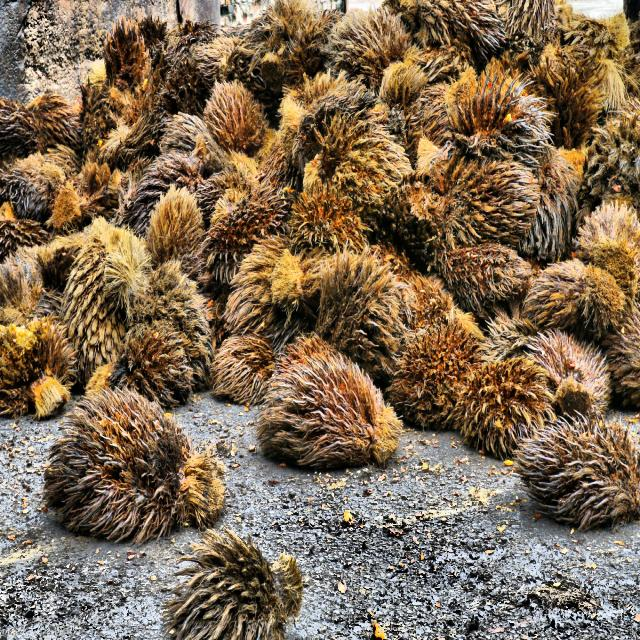FFB: (52, 389, 227, 543), (451, 328, 606, 457), (256, 358, 399, 480), (512, 424, 640, 540), (169, 535, 305, 640)
